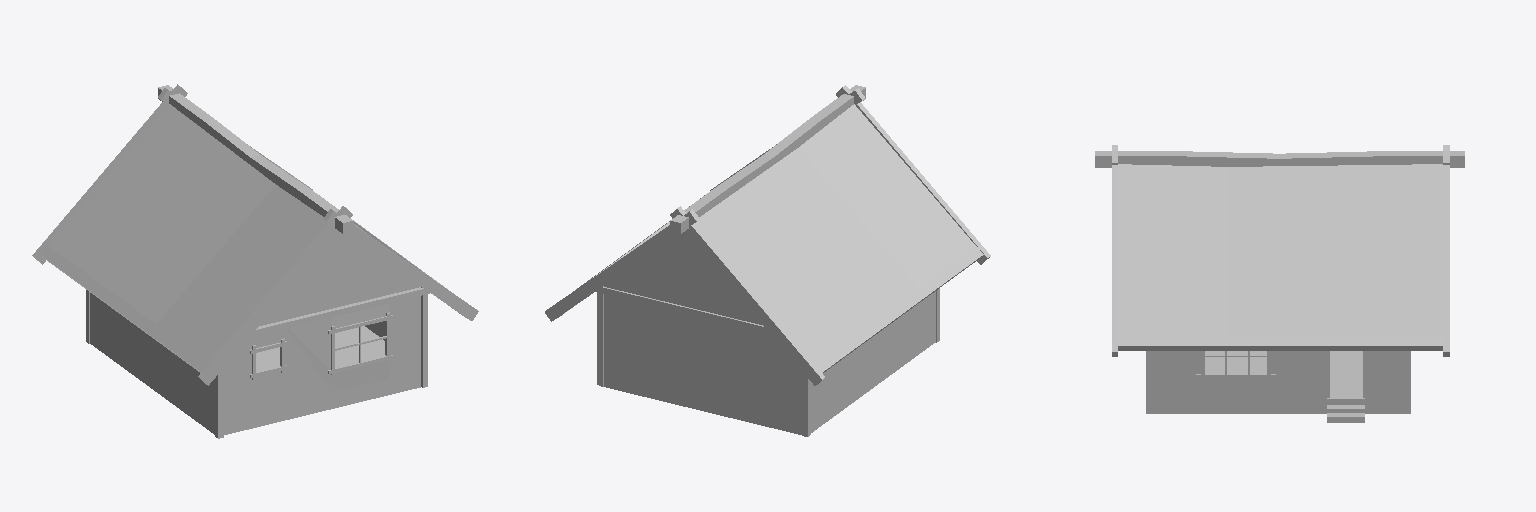
Rendered from Woodhouse.obj.
3 views of the same model, side by side, from view 1: azimuth 30°, elevation 25°; view 2: azimuth 150°, elevation 25°; view 3: azimuth 270°, elevation 25° (orthographic).
Visible parts, largest first — view 1: WoodHouse; view 2: WoodHouse; view 3: WoodHouse.
Boxes of the visible parts, x1,y1,x2,y2 form: WoodHouse: [32, 84, 478, 438]; WoodHouse: [545, 85, 990, 436]; WoodHouse: [1095, 145, 1464, 422].
Bounding box in the file's own units: 4.16 × 3.09 × 4.8.